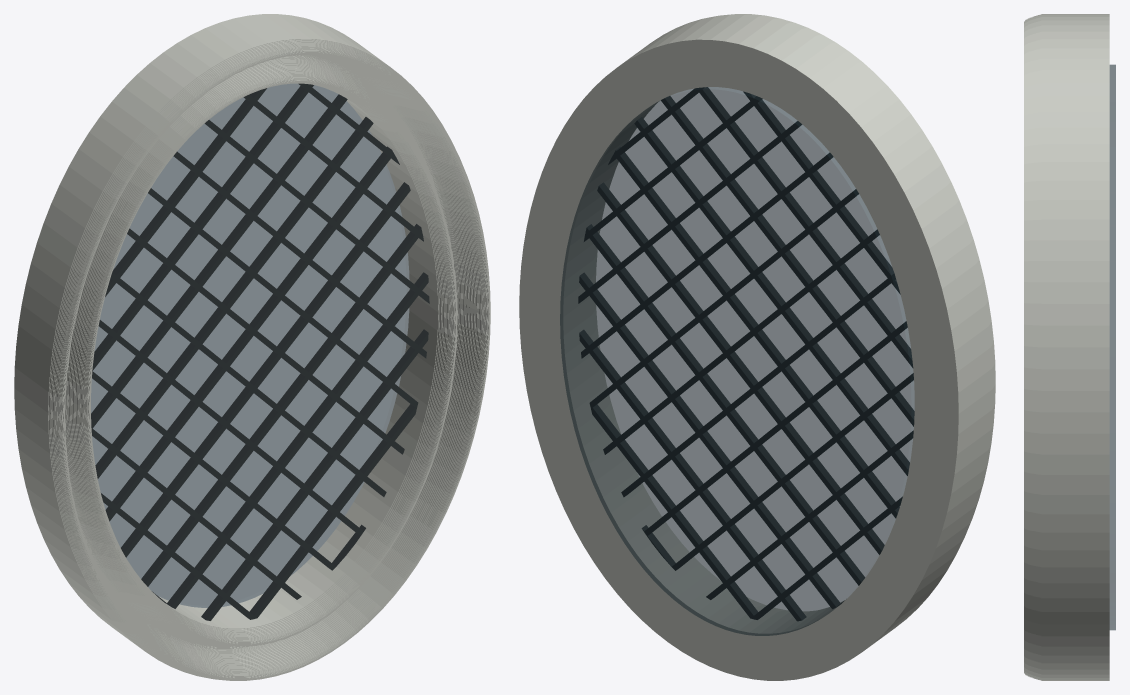
Rendered from barroco_ellipse_con_reja.glb.
3 renders of one model, left to right at view 1: azimuth 30°, elevation 25°; view 2: azimuth 150°, elevation 25°; view 3: azimuth 270°, elevation 25°, orthographic.
Visible parts, largest first — view 1: window_glass#0001, window_grille#0001, window_reveal#0001, window_profile#0096, window_profile#0001, window_profile#0081, window_profile#0084, window_profile#0080, window_profile#0083, window_profile#0082, window_profile#0077, window_profile#0093 (+69 smaller); view 2: window_glass#0001, window_reveal#0001, window_grille#0001, window_profile#0096, window_profile#0001, window_profile#0095, window_profile#0093; view 3: window_profile#0096, window_reveal#0001, window_glass#0001, window_profile#0095, window_profile#0094, window_profile#0091, window_profile#0089, window_profile#0093, window_profile#0092, window_profile#0090, window_profile#0088, window_profile#0086 (+6 smaller).
Part boxes in pixels (x1=…): window_glass#0001: x1=91, y1=83, x2=409, y2=607; window_grille#0001: x1=91, y1=83, x2=429, y2=620; window_reveal#0001: x1=14, y1=14, x2=422, y2=636; window_profile#0096: x1=27, y1=23, x2=442, y2=675; window_profile#0001: x1=135, y1=88, x2=438, y2=629; window_profile#0081: x1=63, y1=52, x2=489, y2=678; window_profile#0084: x1=61, y1=50, x2=490, y2=680; window_profile#0080: x1=64, y1=53, x2=488, y2=678; window_profile#0083: x1=62, y1=51, x2=490, y2=679; window_profile#0082: x1=63, y1=52, x2=489, y2=679; window_profile#0077: x1=65, y1=54, x2=486, y2=676; window_profile#0093: x1=51, y1=41, x2=459, y2=679; window_glass#0001: x1=560, y1=87, x2=914, y2=635; window_reveal#0001: x1=519, y1=29, x2=973, y2=680; window_grille#0001: x1=578, y1=87, x2=914, y2=620; window_profile#0096: x1=635, y1=15, x2=992, y2=640; window_profile#0001: x1=576, y1=101, x2=843, y2=623; window_profile#0095: x1=722, y1=14, x2=993, y2=550; window_profile#0093: x1=720, y1=14, x2=994, y2=537; window_profile#0096: x1=1041, y1=14, x2=1084, y2=680; window_reveal#0001: x1=1080, y1=14, x2=1109, y2=680; window_glass#0001: x1=1109, y1=64, x2=1115, y2=630; window_profile#0095: x1=1039, y1=14, x2=1041, y2=680; window_profile#0094: x1=1037, y1=15, x2=1039, y2=679; window_profile#0091: x1=1032, y1=16, x2=1034, y2=678; window_profile#0089: x1=1029, y1=17, x2=1031, y2=677; window_profile#0093: x1=1036, y1=15, x2=1037, y2=679; window_profile#0092: x1=1034, y1=16, x2=1035, y2=678; window_profile#0090: x1=1031, y1=17, x2=1032, y2=677; window_profile#0088: x1=1028, y1=18, x2=1029, y2=676; window_profile#0086: x1=1026, y1=19, x2=1027, y2=675.
Size of the model in its own units: 1.6 by 2.2 by 0.2896.
